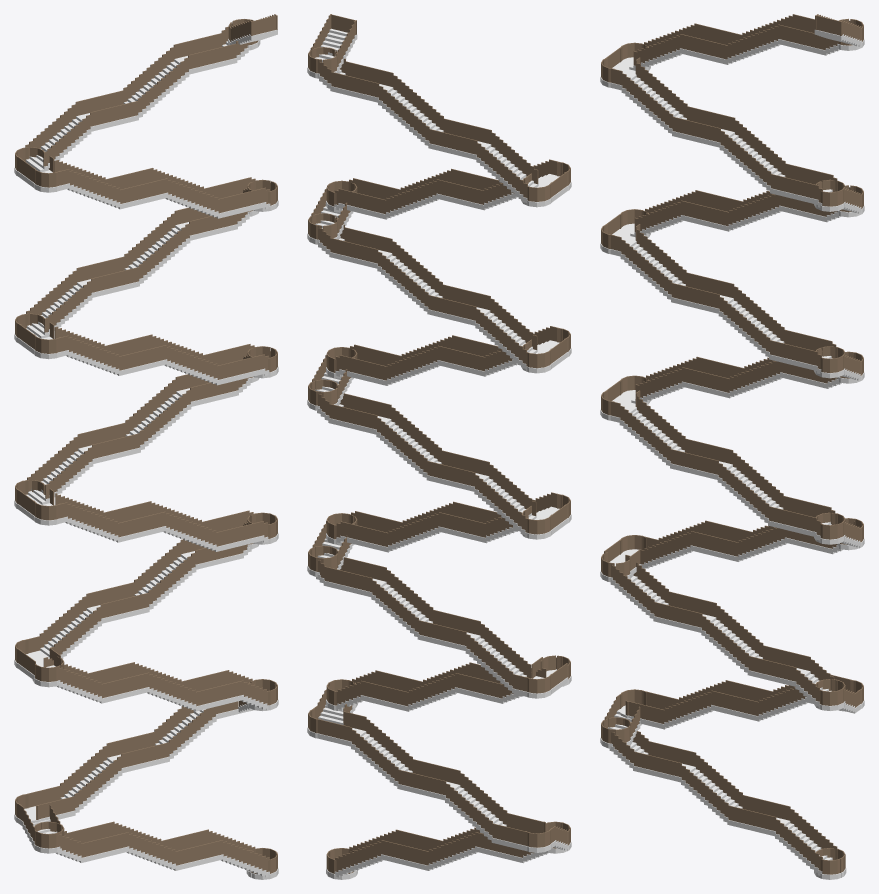
3 views of the same model, side by side, from view 1: azimuth 30°, elevation 25°; view 2: azimuth 150°, elevation 25°; view 3: azimuth 330°, elevation 25° (orthographic).
Visible parts, largest first — view 1: c_cliff_stair_4_rail_rail, c_cliff_stair_4_stair_wood; view 2: c_cliff_stair_4_rail_rail, c_cliff_stair_4_stair_wood; view 3: c_cliff_stair_4_rail_rail, c_cliff_stair_4_stair_wood.
Boxes of the visible parts, bbox=[...] form: c_cliff_stair_4_rail_rail: bbox=[15, 14, 277, 873]; c_cliff_stair_4_stair_wood: bbox=[14, 29, 278, 879]; c_cliff_stair_4_rail_rail: bbox=[308, 14, 570, 873]; c_cliff_stair_4_stair_wood: bbox=[307, 28, 571, 879]; c_cliff_stair_4_rail_rail: bbox=[601, 14, 863, 874]; c_cliff_stair_4_stair_wood: bbox=[600, 30, 864, 879].
Size of the model in its own units: 18.08 by 61.18 by 4.48.
